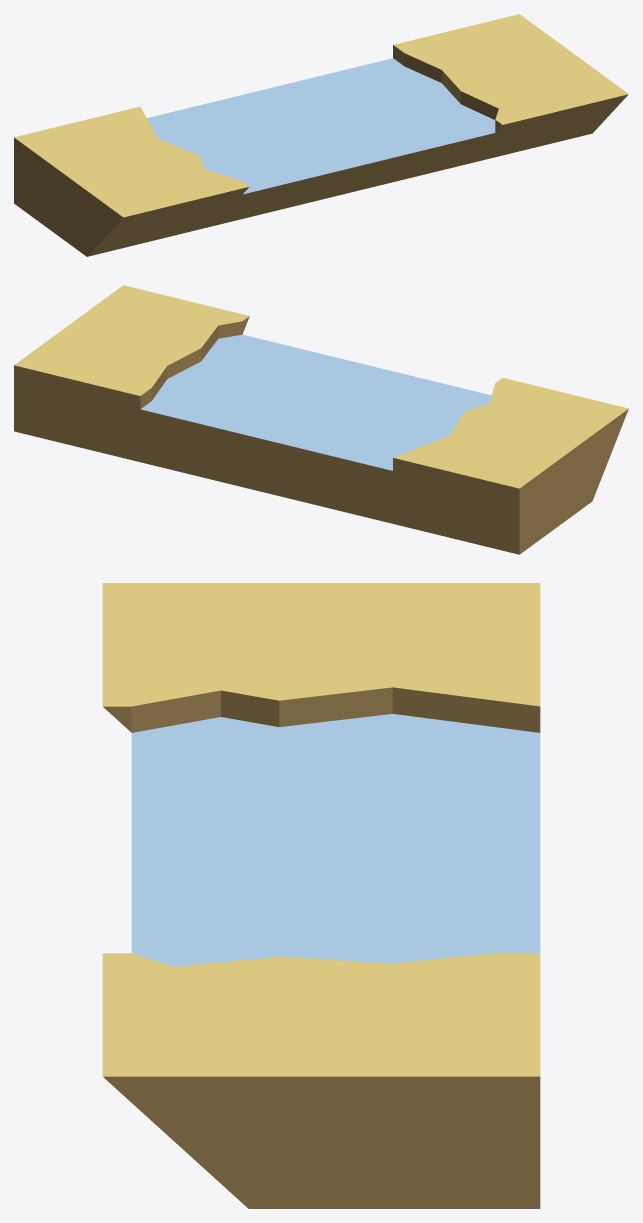
The model's file is Terrain_Tile_Sand_Ledge_River_03.fbx.
3 views of the same model, one above another, from view 1: azimuth 30°, elevation 25°; view 2: azimuth 150°, elevation 25°; view 3: azimuth 270°, elevation 25° (orthographic). The views are drawn at different scales.
Visible parts, largest first — view 1: Terrain_Tile_Sand_Ledge_River_03; view 2: Terrain_Tile_Sand_Ledge_River_03; view 3: Terrain_Tile_Sand_Ledge_River_03.
Boxes of the visible parts, x1,y1,x2,y2 form: Terrain_Tile_Sand_Ledge_River_03: [14, 14, 628, 256]; Terrain_Tile_Sand_Ledge_River_03: [14, 285, 628, 554]; Terrain_Tile_Sand_Ledge_River_03: [102, 583, 540, 1208].
Bounding box in the file's own units: 126 × 15.75 × 47.24.
